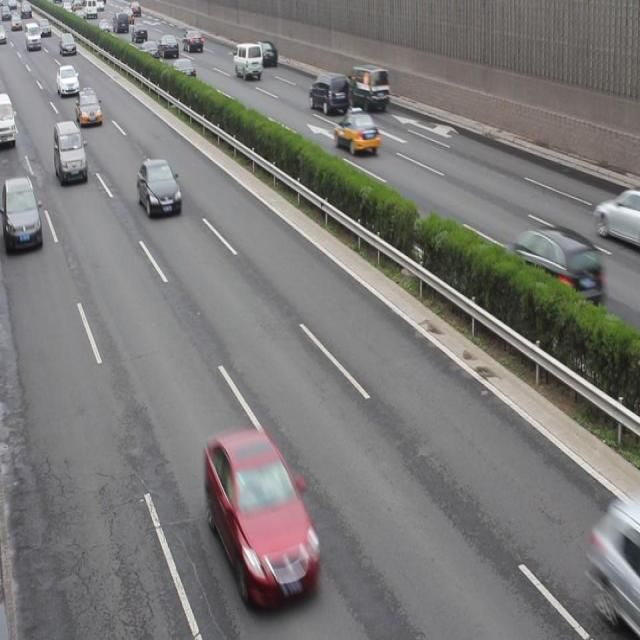car: (205, 428, 321, 604), (503, 227, 604, 308), (1, 176, 43, 254), (594, 190, 640, 247), (138, 159, 182, 217), (334, 110, 379, 152), (76, 87, 103, 126), (57, 66, 79, 95), (256, 41, 276, 66), (172, 58, 195, 79), (158, 34, 178, 57), (183, 30, 203, 53), (140, 40, 159, 60), (60, 35, 76, 55), (132, 23, 147, 43)
truck: (54, 120, 87, 184), (348, 66, 390, 110), (308, 73, 347, 114), (233, 43, 262, 79), (0, 93, 16, 146)
